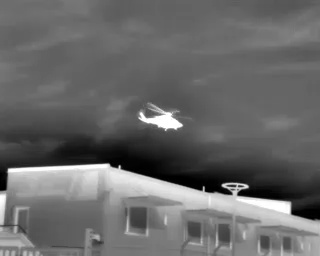HELICOPTER: (136, 98, 196, 138)
